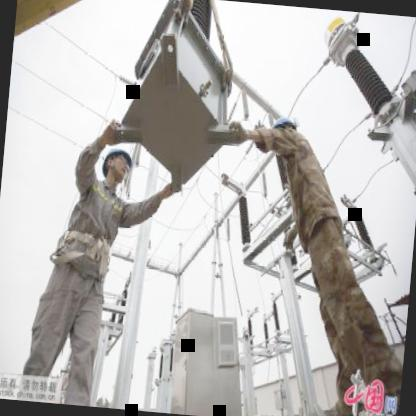helmet: (96, 139, 136, 194), (265, 114, 300, 161)
